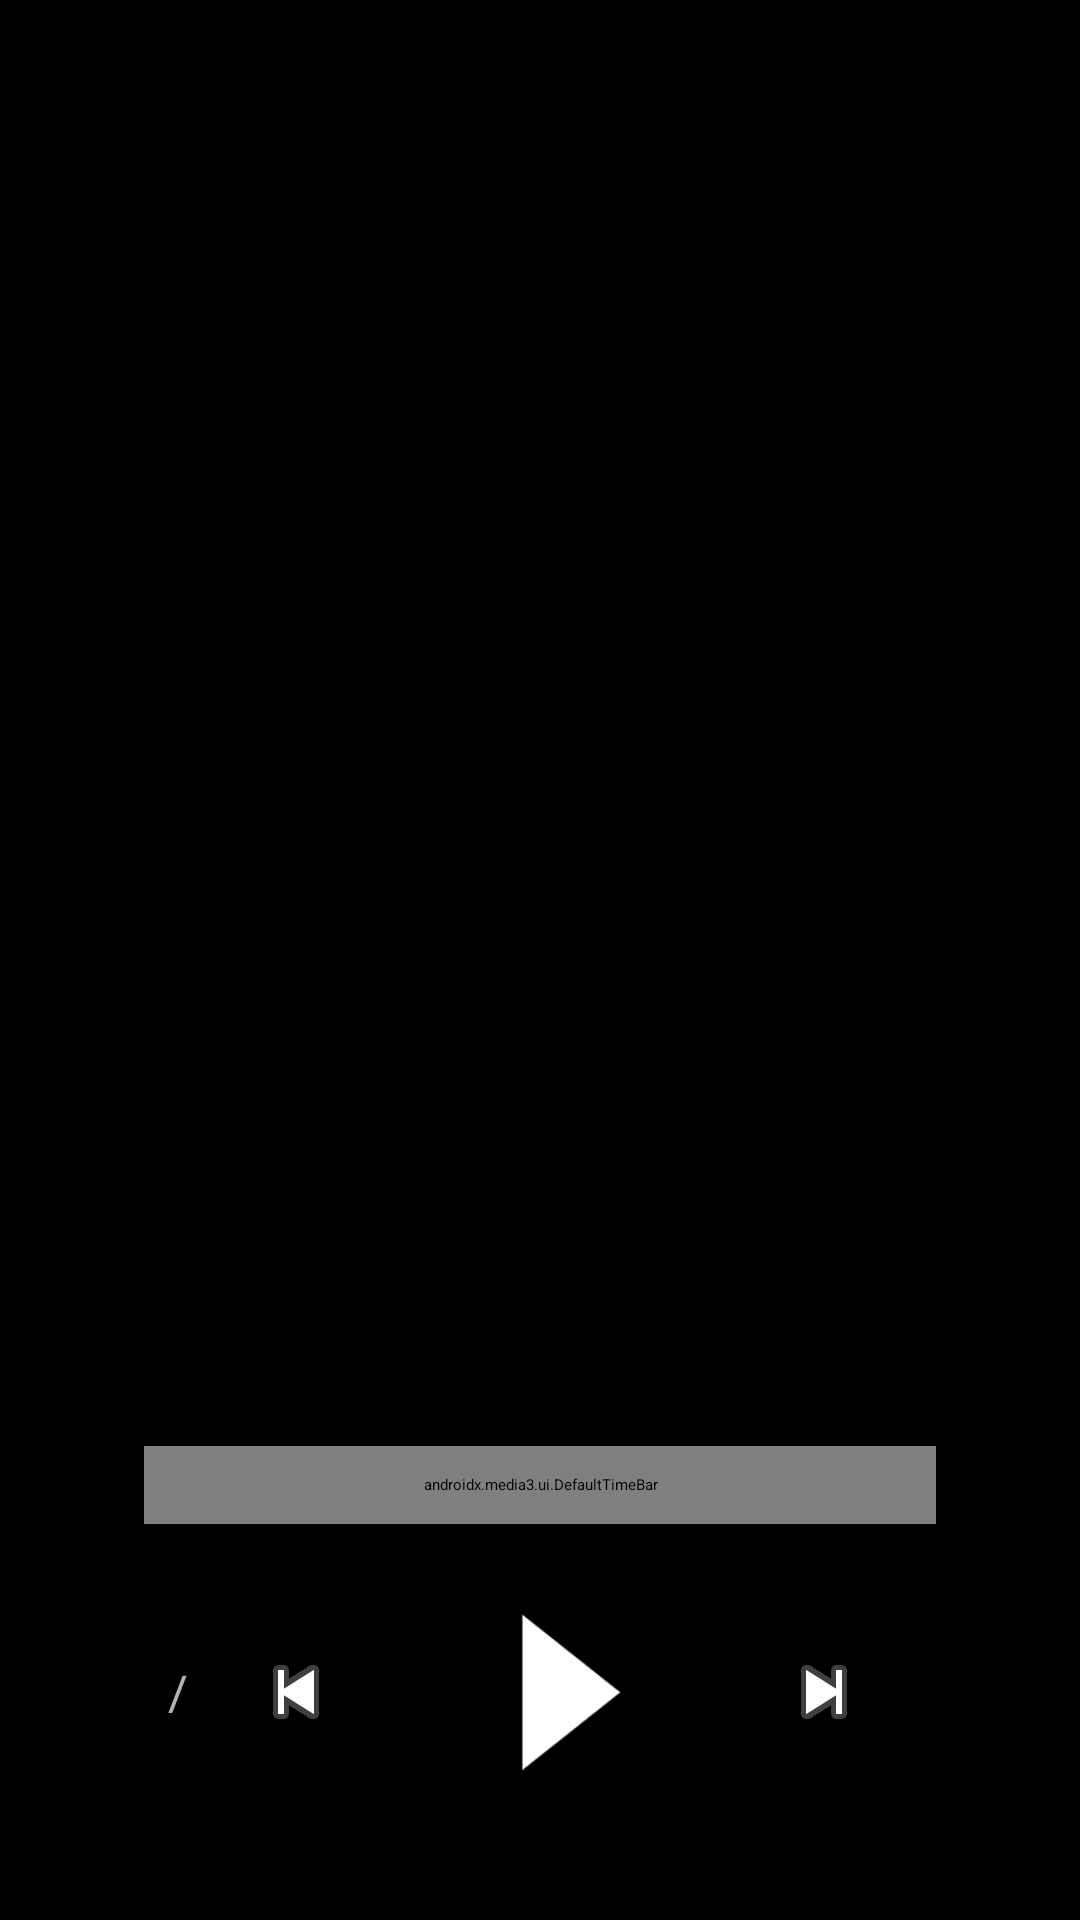

Where to tap for icons on this 1080×1920 app screen, as (x=x, y=y):
next: (x=824, y=1692)
play: (x=571, y=1692)
previous: (x=296, y=1692)
